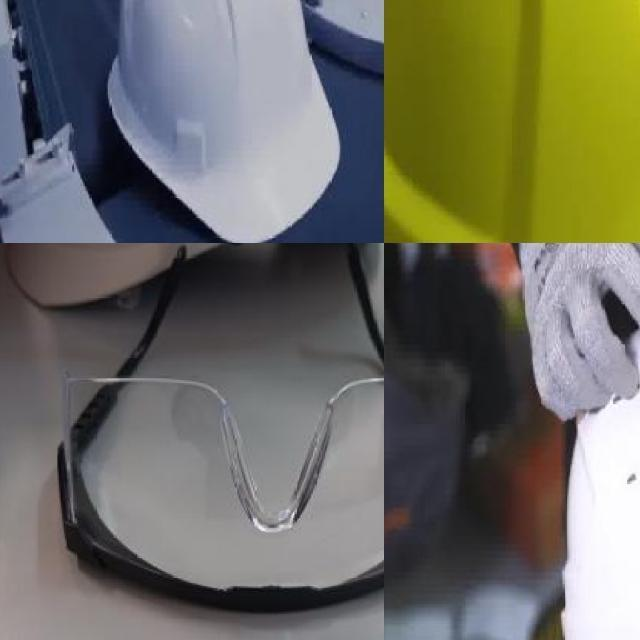apron: (516, 243, 640, 426)
